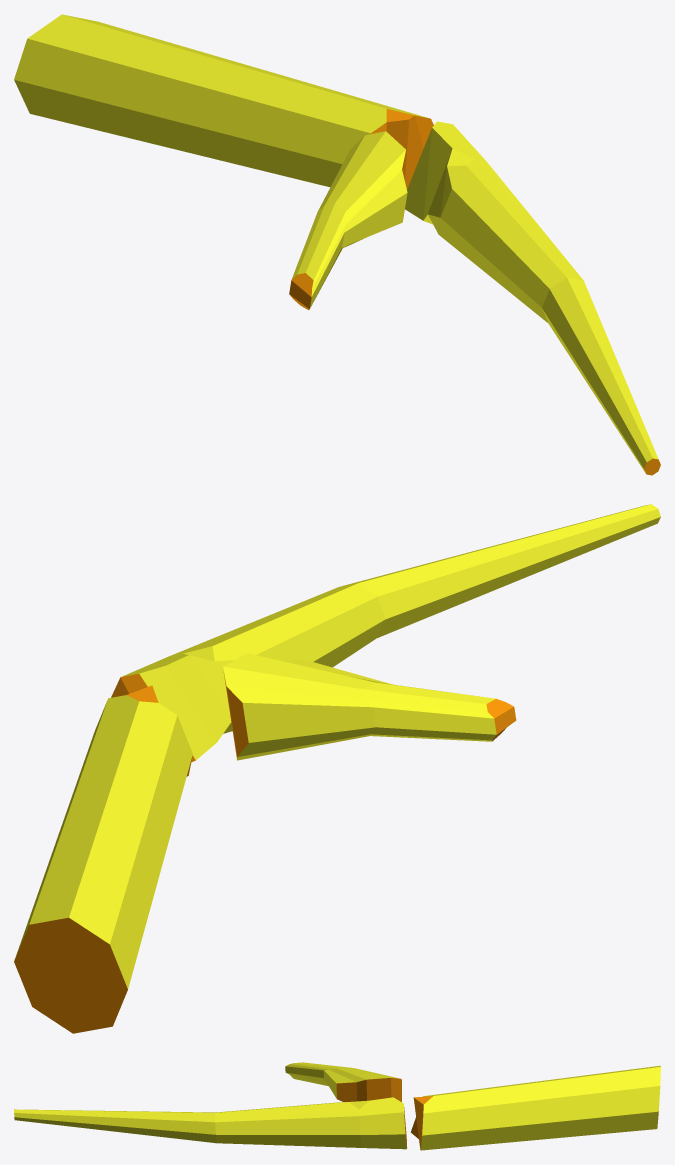
Rendered from Stick_38.fbx.
The picture shows the model from 3 angles, top to bottom: view 1: azimuth 30°, elevation 25°; view 2: azimuth 150°, elevation 25°; view 3: azimuth 270°, elevation 25°; orthographic projection. The views are drawn at different scales.
Parts seen in each view (by area): view 1: Circle.324, Circle.332, Circle.333; view 2: Circle.324, Circle.332, Circle.333; view 3: Circle.324, Circle.332, Circle.333.
Part boxes in pixels (x1,y1,x2,y2): Circle.324: (14,14,433,189); Circle.332: (405,121,660,475); Circle.333: (289,131,407,310); Circle.324: (14,685,192,1033); Circle.332: (111,504,660,762); Circle.333: (223,653,516,760); Circle.324: (410,1065,660,1150); Circle.332: (14,1097,407,1149); Circle.333: (285,1062,401,1101).
Bounding box in the file's own units: 8.86 × 4.31 × 32.62.
